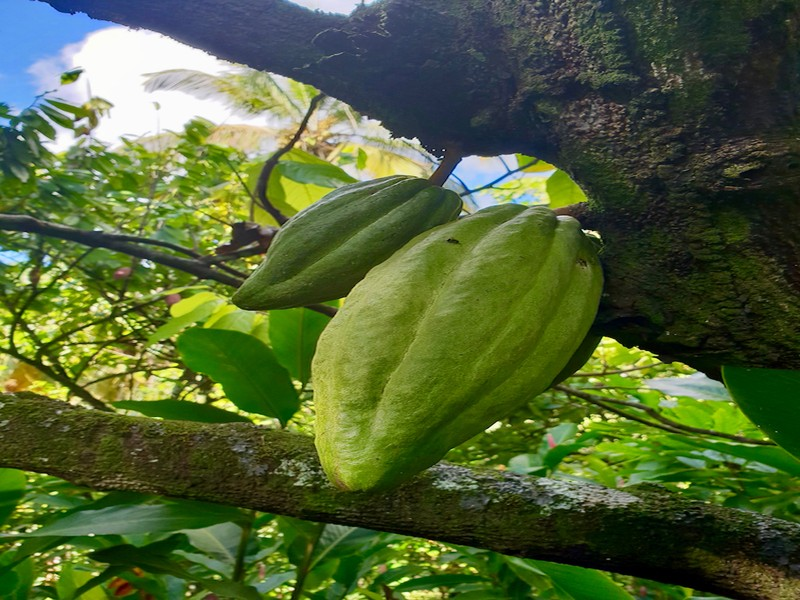Cacaopod: (308, 199, 612, 500)
